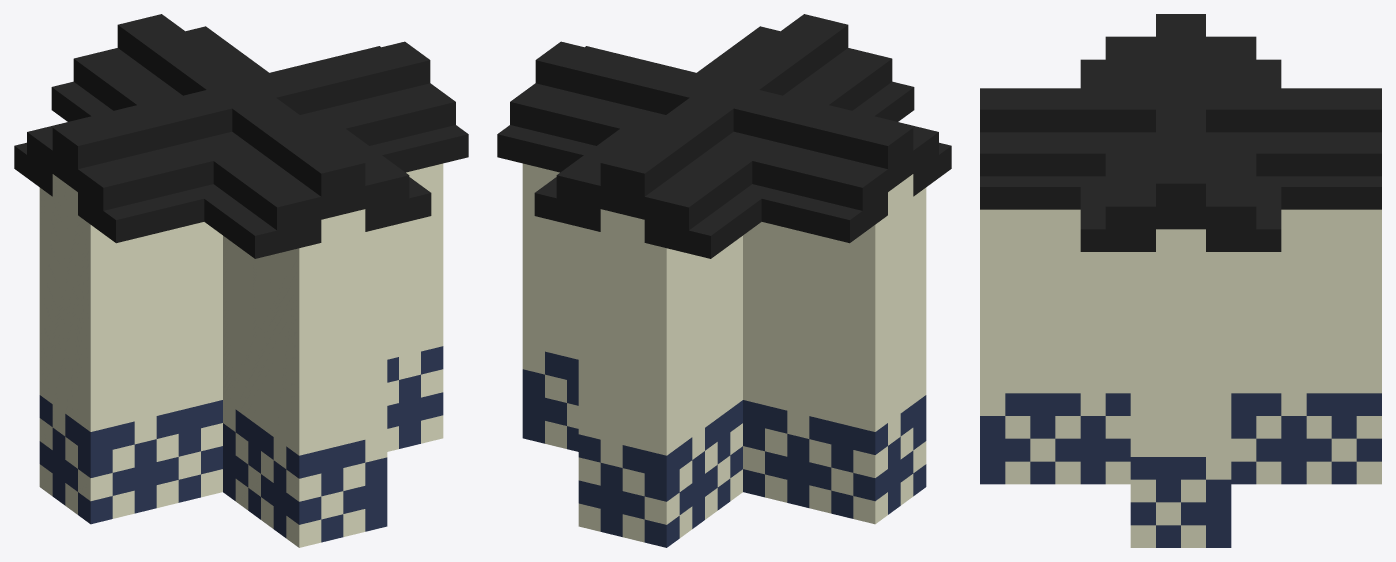
File: kabe_cross.obj
3 renders of one model, left to right at view 1: azimuth 30°, elevation 25°; view 2: azimuth 150°, elevation 25°; view 3: azimuth 270°, elevation 25°, orthographic.
Size of the model in its own units: 1.6 by 1.6 by 1.6.
Materials: 1 (1 with a texture image).
